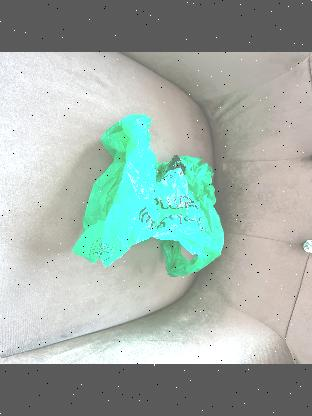Others: (78, 120, 224, 274)
